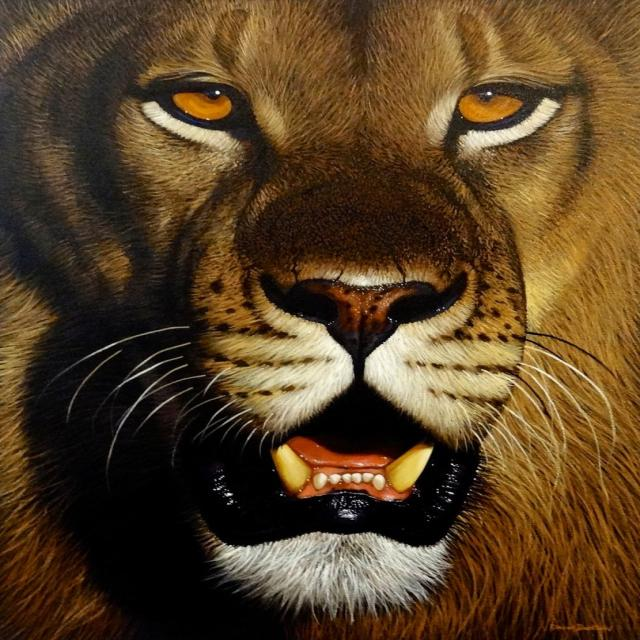lion: (6, 14, 630, 640)
